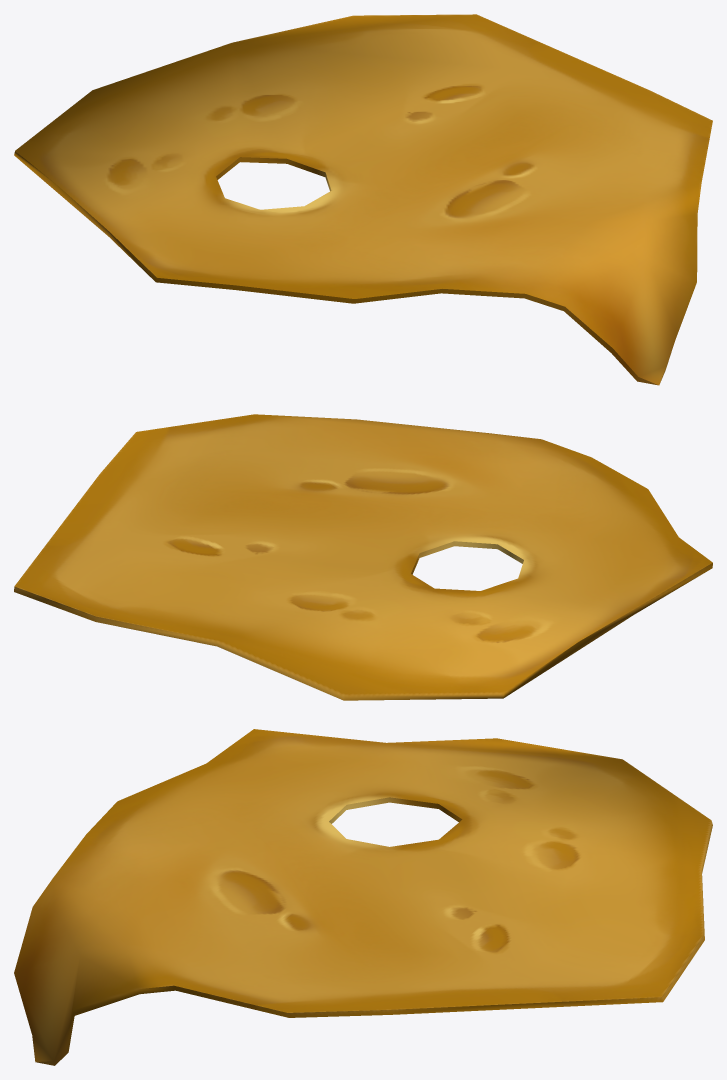
The model's file is cheeseslice.fbx.
3 renders of one model, top to bottom at view 1: azimuth 30°, elevation 25°; view 2: azimuth 150°, elevation 25°; view 3: azimuth 270°, elevation 25°, orthographic. The views are drawn at different scales.
Visible parts, largest first — view 1: cheeseslice; view 2: cheeseslice; view 3: cheeseslice.
Boxes of the visible parts, <box> form: cheeseslice: <box>14,14,712,385</box>; cheeseslice: <box>14,414,712,700</box>; cheeseslice: <box>14,729,712,1065</box>.
Bounding box in the file's own units: 28.47 × 6.38 × 29.01.
